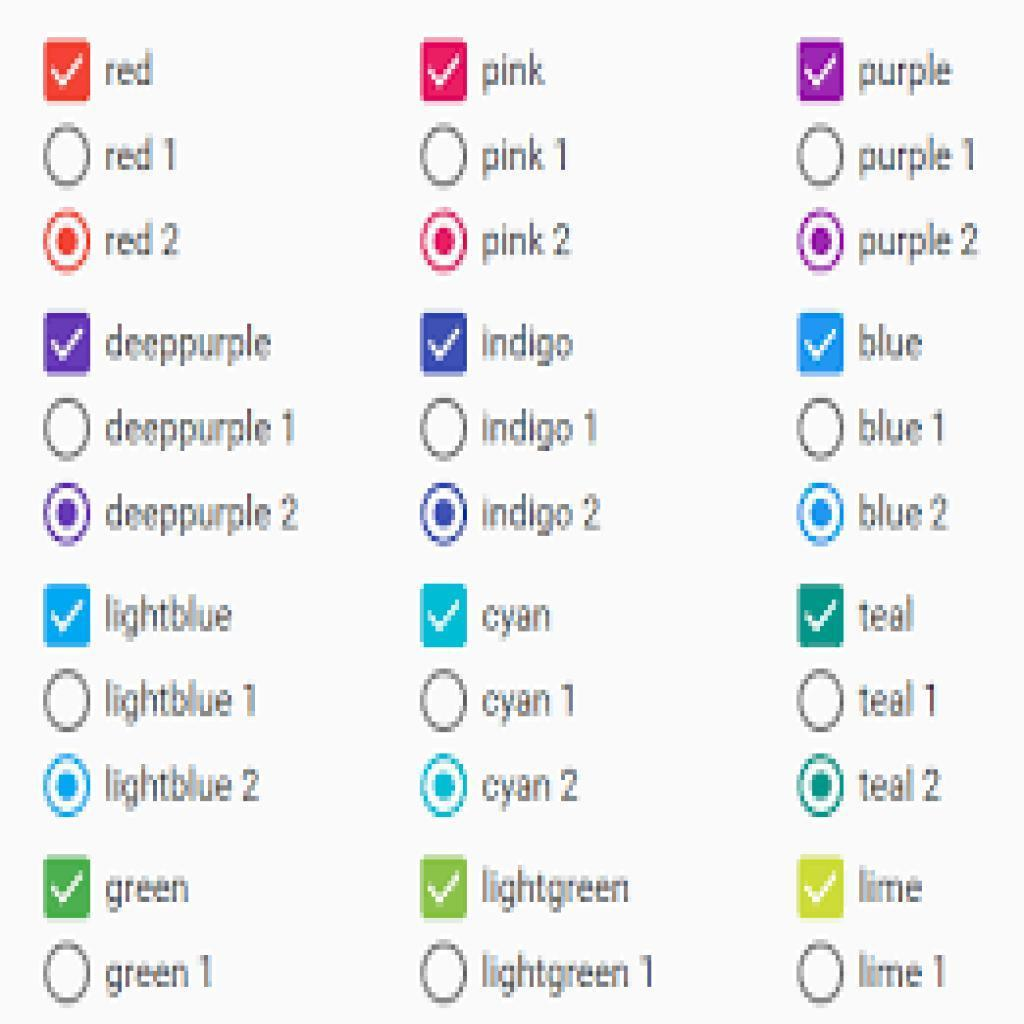checkbox: (419, 312, 470, 379), (420, 585, 470, 649), (43, 855, 93, 919), (420, 40, 469, 105), (422, 855, 470, 921), (43, 40, 93, 103), (797, 855, 846, 919), (799, 39, 847, 103), (46, 583, 93, 648), (798, 312, 846, 375), (799, 584, 846, 648), (45, 316, 92, 375)
radio: (417, 207, 474, 279), (41, 206, 97, 279), (41, 749, 96, 821), (419, 120, 472, 192), (797, 204, 848, 278), (39, 666, 95, 733), (42, 479, 94, 551), (418, 667, 473, 735), (418, 939, 472, 1008), (796, 477, 846, 549), (42, 939, 95, 1006), (797, 125, 849, 193), (796, 940, 848, 1008), (418, 751, 469, 820), (796, 668, 847, 737), (795, 395, 845, 464), (419, 482, 472, 547), (795, 753, 846, 819), (420, 397, 470, 464), (42, 395, 91, 463), (44, 125, 94, 189)
